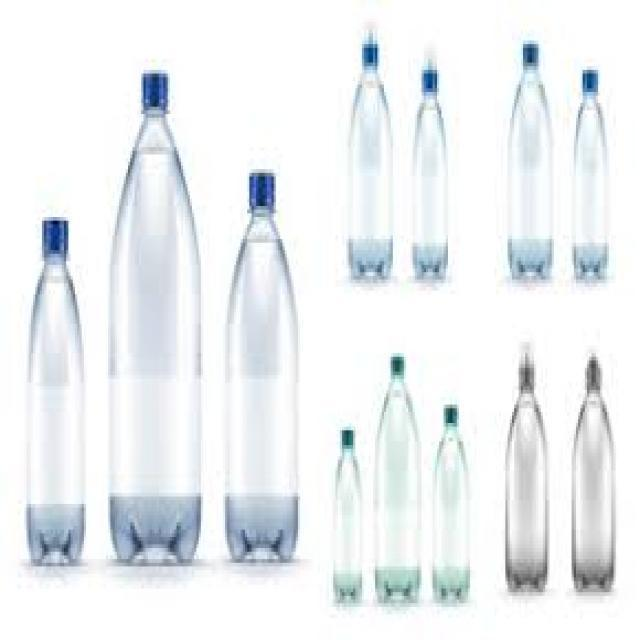Plastic: (108, 68, 204, 566), (222, 166, 296, 565), (28, 216, 86, 569), (372, 354, 424, 608), (346, 17, 392, 282), (505, 37, 554, 284), (504, 342, 550, 596), (571, 344, 617, 596), (406, 51, 450, 286), (570, 61, 610, 286), (431, 404, 472, 598), (331, 428, 364, 604)
